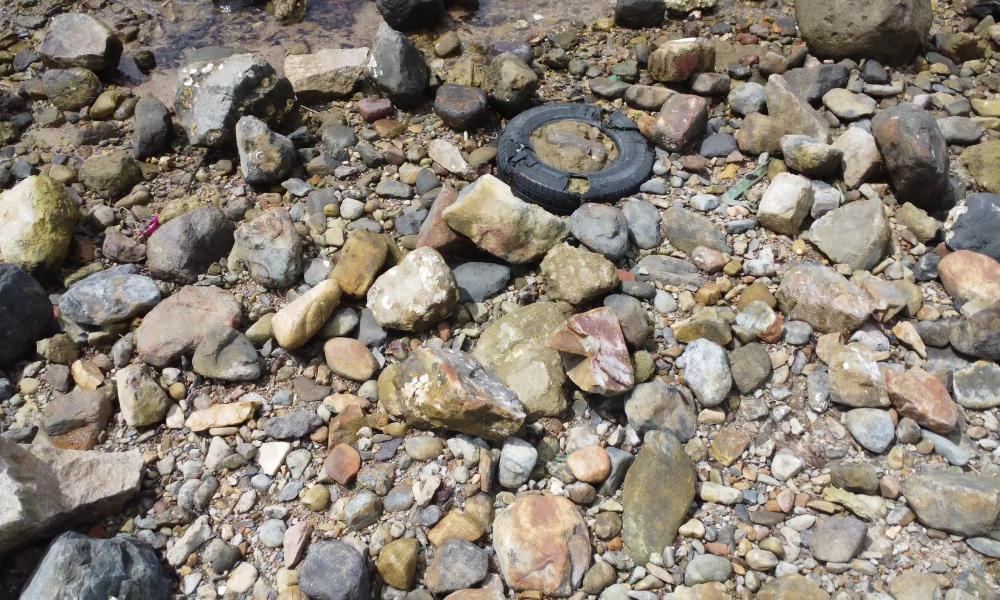tire: (496, 102, 656, 214)
